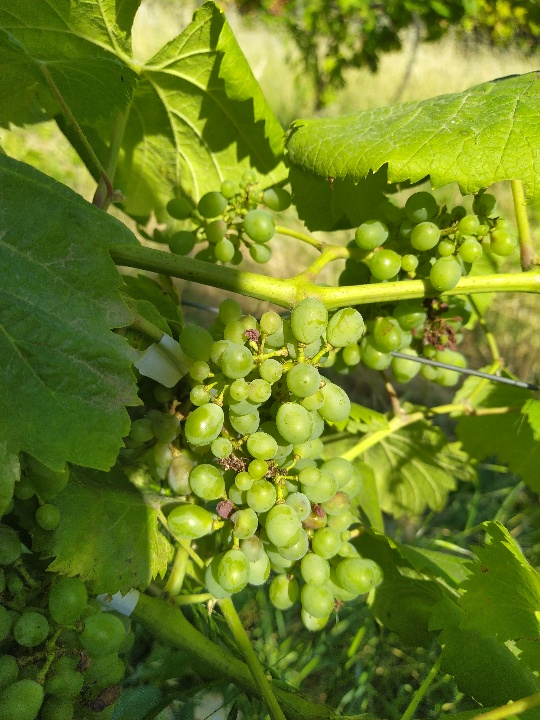grape: (131, 296, 389, 634), (336, 190, 520, 388), (163, 170, 293, 265)
